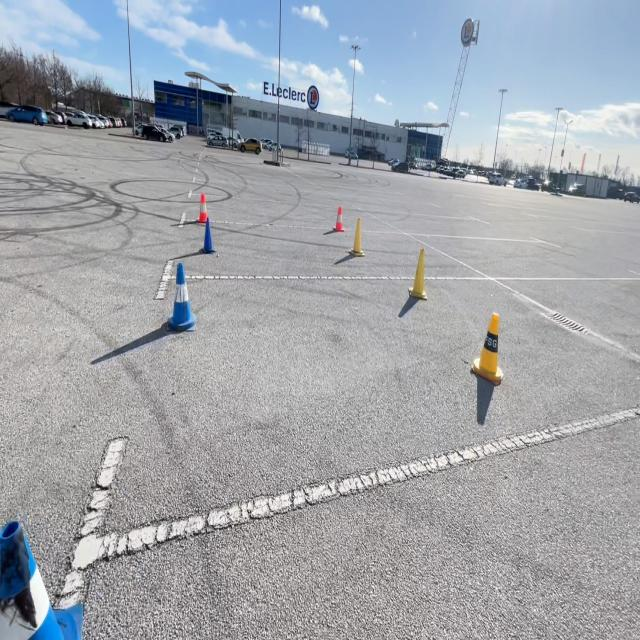blue_cone: (0, 517, 87, 639), (165, 259, 197, 332), (199, 214, 216, 254)
orange_cone: (197, 191, 211, 224), (332, 204, 346, 232)
yellow_cone: (471, 311, 502, 384), (407, 245, 428, 298), (348, 216, 365, 257)
